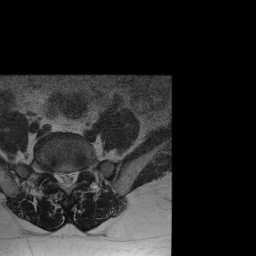CCS_normal: (64, 165, 71, 192)
LFS_stenosis: (78, 162, 84, 180)
LLS_normal: (71, 164, 78, 188)
RFS_stenosis: (48, 160, 55, 183)
RLS_normal: (55, 165, 64, 191)
